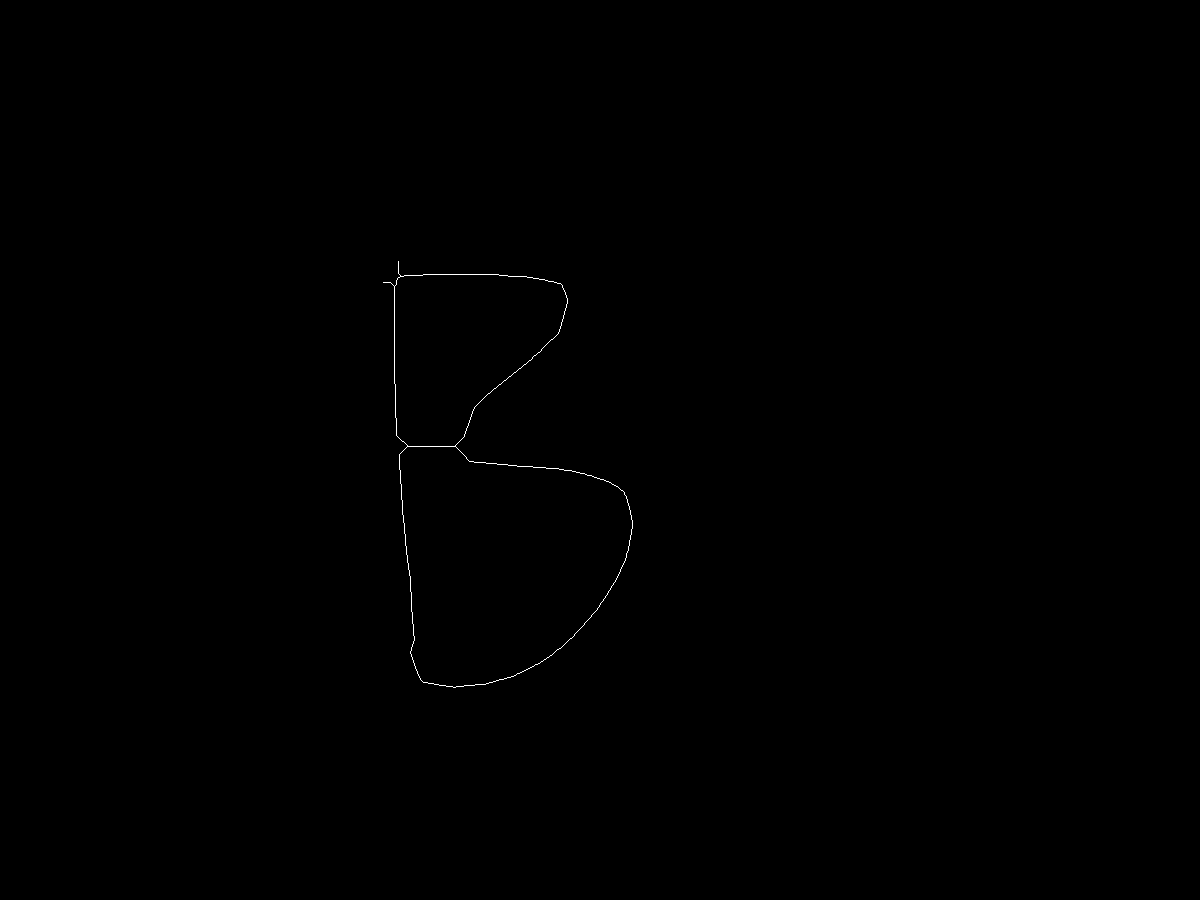dian1: (390, 275, 405, 290)
dian2: (388, 439, 414, 465)
dian3: (409, 665, 432, 688)
dian4: (451, 440, 468, 457)
